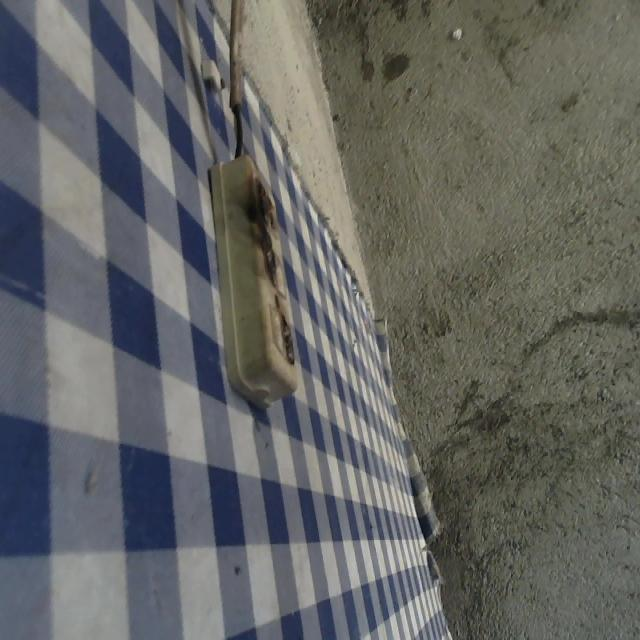-: (250, 172, 277, 235), (257, 241, 276, 291), (279, 313, 294, 367)
